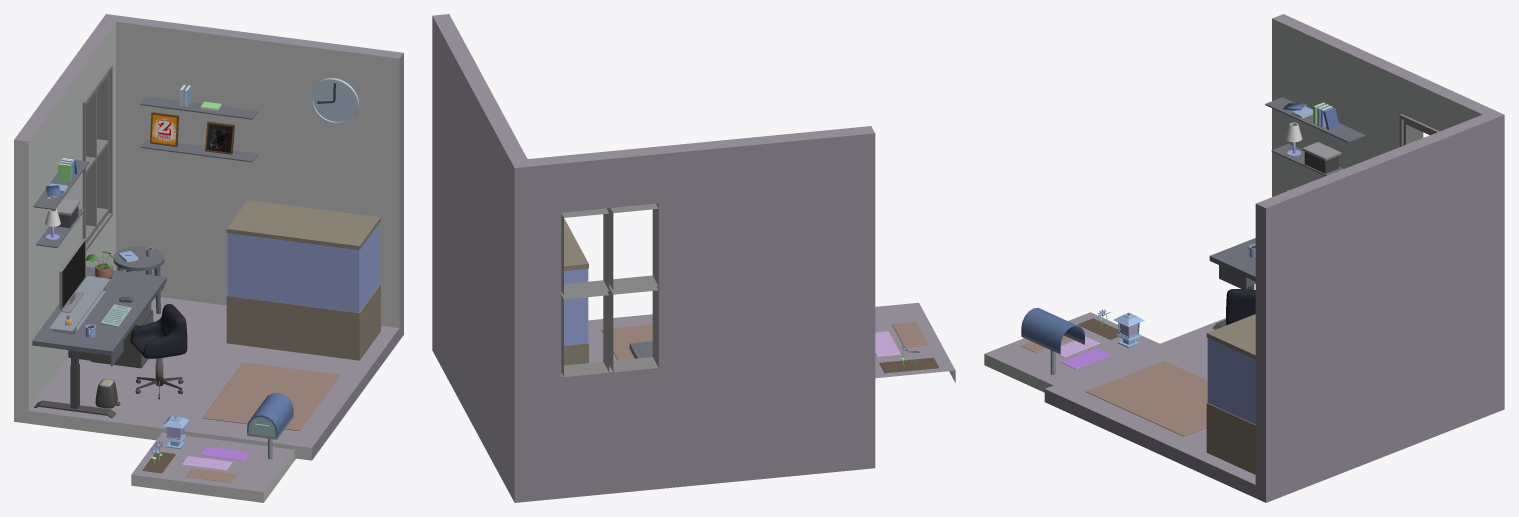
The model's file is room10.glb.
The picture shows the model from 3 angles, left to right: view 1: azimuth 30°, elevation 25°; view 2: azimuth 150°, elevation 25°; view 3: azimuth 270°, elevation 25°; orthographic projection. The views are drawn at different scales.
Visible parts, largest first — view 1: Body, Aquarium, Desks, Floor Items, Mini Floor, Shelves, Table Stuff, Chair, Clock, Mailbox, Computer, Shelves2 (+5 smaller); view 2: Body, Mini Floor, Aquarium, Floor Items, Dirt, FloorThird; view 3: Body, Aquarium, Floor Items, Mini Floor, Shelves, Mailbox, Desks, Chair, Lamp.
Part boxes in pixels (left/top/right/bottom): Body: left=14, top=14, right=403, bottom=460; Aquarium: left=226, top=200, right=380, bottom=360; Desks: left=32, top=246, right=166, bottom=418; Floor Items: left=90, top=309, right=340, bottom=430; Mini Floor: left=131, top=432, right=295, bottom=502; Shelves: left=33, top=84, right=257, bottom=247; Table Stuff: left=49, top=247, right=154, bottom=337; Chair: left=130, top=304, right=187, bottom=358; Clock: left=309, top=78, right=358, bottom=125; Mailbox: left=247, top=393, right=293, bottom=459; Computer: left=59, top=238, right=85, bottom=312; Shelves2: left=150, top=112, right=178, bottom=146; Body: left=432, top=14, right=875, bottom=502; Mini Floor: left=875, top=302, right=955, bottom=382; Aquarium: left=564, top=218, right=588, bottom=365; Floor Items: left=601, top=324, right=652, bottom=360; Dirt: left=879, top=357, right=939, bottom=373; FloorThird: left=892, top=322, right=928, bottom=347; Body: left=1044, top=14, right=1504, bottom=502; Aquarium: left=1206, top=314, right=1255, bottom=474; Floor Items: left=1086, top=361, right=1207, bottom=436; Mini Floor: left=984, top=312, right=1159, bottom=392; Shelves: left=1265, top=97, right=1365, bottom=175; Mailbox: left=1021, top=308, right=1084, bottom=374; Desks: left=1209, top=238, right=1255, bottom=329; Chair: left=1226, top=289, right=1255, bottom=325; Lamp: left=1113, top=312, right=1144, bottom=347.
Size of the model in its own units: 27.58 by 19.65 by 31.21.
Materials: 46 (2 with a texture image).
